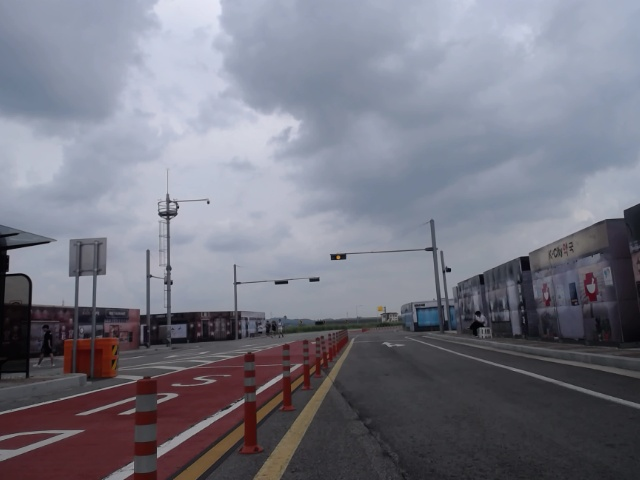orange_3: (332, 254, 347, 261)
